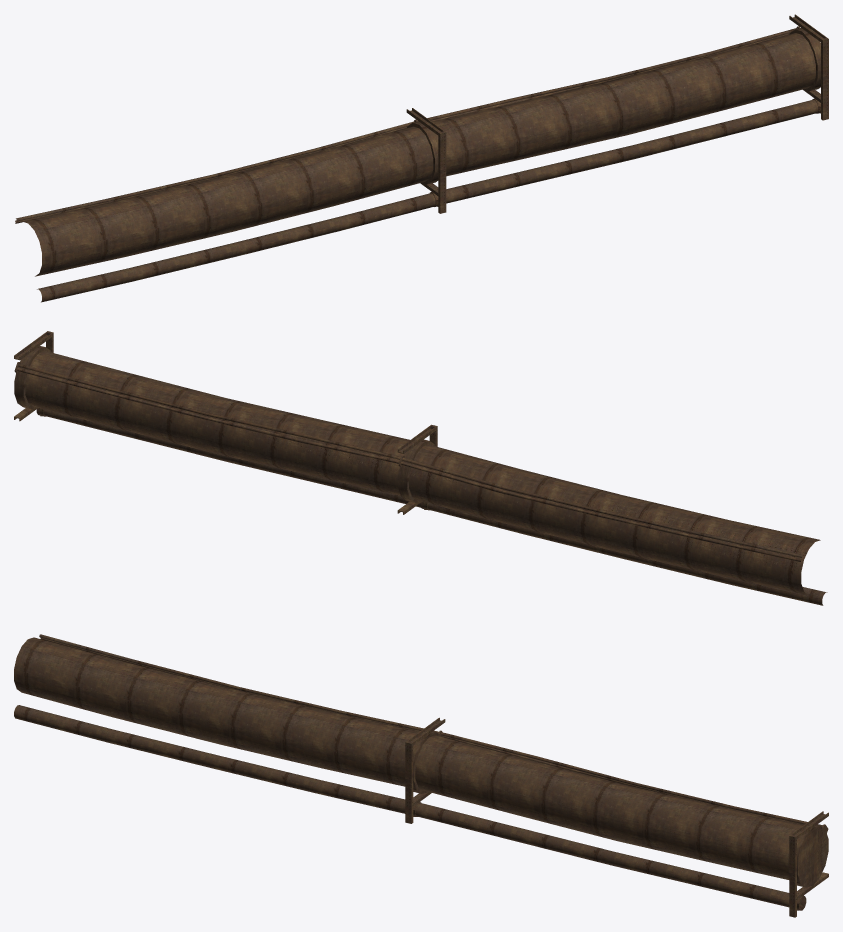
The model's file is pipeset32d_512_001a.glb.
3 views of the same model, one above another, from view 1: azimuth 30°, elevation 25°; view 2: azimuth 150°, elevation 25°; view 3: azimuth 330°, elevation 25° (orthographic).
Parts seen in each view (by area): view 1: 0_pipeset_metal; view 2: 0_pipeset_metal; view 3: 0_pipeset_metal.
Part boxes in pixels (bbox=[...]): 0_pipeset_metal: bbox=[15, 14, 828, 302]; 0_pipeset_metal: bbox=[14, 331, 827, 605]; 0_pipeset_metal: bbox=[14, 634, 828, 917].
Bounding box in the file's own units: 13 × 1.27 × 0.9654.
Materials: 1 (1 with a texture image).
